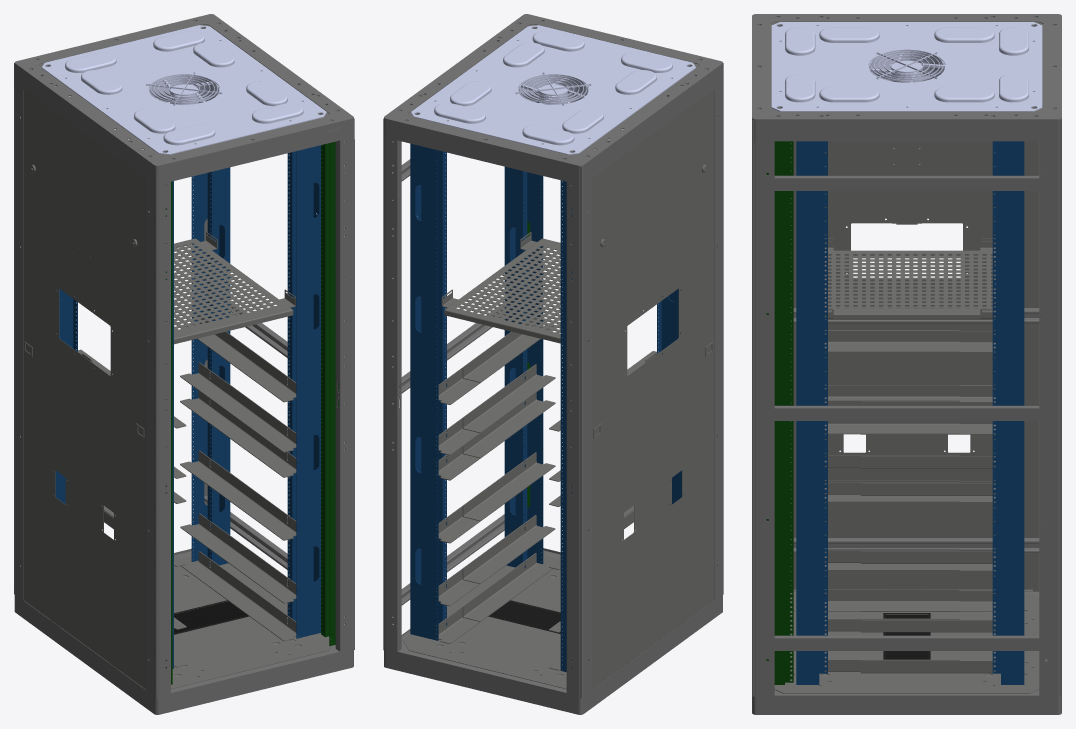
3 views of the same model, side by side, from view 1: azimuth 30°, elevation 25°; view 2: azimuth 150°, elevation 25°; view 3: azimuth 270°, elevation 25° (orthographic). The views are drawn at different scales.
Visible parts, largest first — view 1: mesh1:mat1, mesh6:mat6, mesh2:mat2, mesh7:mat7, mesh3:mat3, mesh4:mat4; view 2: mesh1:mat1, mesh6:mat6, mesh2:mat2, mesh7:mat7, mesh4:mat4; view 3: mesh1:mat1, mesh6:mat6, mesh2:mat2, mesh7:mat7, mesh3:mat3, mesh4:mat4.
Part boxes in pixels (bbox=[...]): mesh1:mat1: bbox=[24, 20, 345, 689]; mesh6:mat6: bbox=[14, 14, 354, 714]; mesh2:mat2: bbox=[54, 102, 322, 668]; mesh7:mat7: bbox=[42, 25, 326, 154]; mesh3:mat3: bbox=[165, 141, 338, 684]; mesh4:mat4: bbox=[174, 600, 248, 634]; mesh1:mat1: bbox=[392, 20, 713, 689]; mesh6:mat6: bbox=[383, 14, 723, 714]; mesh2:mat2: bbox=[410, 96, 683, 672]; mesh7:mat7: bbox=[411, 25, 695, 154]; mesh4:mat4: bbox=[488, 600, 562, 633]; mesh1:mat1: bbox=[757, 17, 1056, 693]; mesh6:mat6: bbox=[752, 14, 1061, 714]; mesh2:mat2: bbox=[796, 115, 1024, 684]; mesh7:mat7: bbox=[771, 22, 1042, 111]; mesh3:mat3: bbox=[766, 141, 793, 684]; mesh4:mat4: bbox=[883, 613, 930, 659].
Size of the model in its own units: 0.00743 by 0.0195 by 0.00914.
